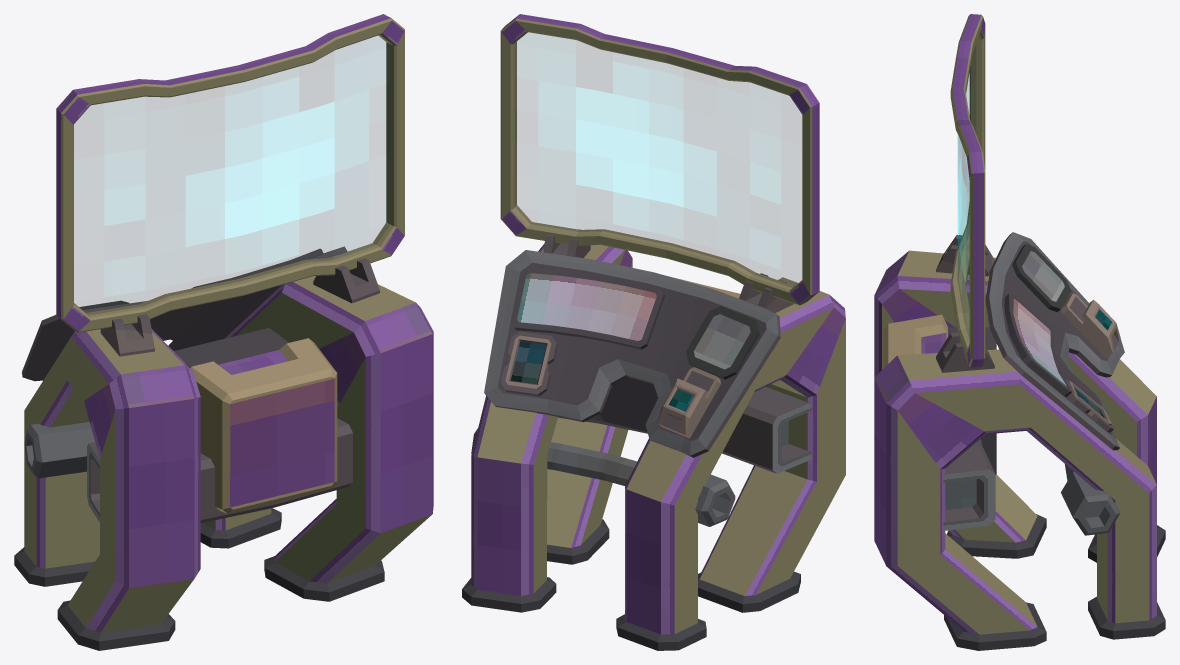
Rendered from entity104576.glb.
3 renders of one model, left to right at view 1: azimuth 30°, elevation 25°; view 2: azimuth 150°, elevation 25°; view 3: azimuth 270°, elevation 25°, orthographic. The views are drawn at different scales.
Visible parts, largest first — view 1: node_SM_Prop_Monitor_03 (2), node_SM_Prop_Monitor_03_Glass_01; view 2: node_SM_Prop_Monitor_03 (2), node_SM_Prop_Monitor_03_Glass_01; view 3: node_SM_Prop_Monitor_03 (2), node_SM_Prop_Monitor_03_Glass_01.
Boxes of the visible parts, x1,y1,x2,y2 form: node_SM_Prop_Monitor_03 (2): (14, 14, 433, 650); node_SM_Prop_Monitor_03_Glass_01: (74, 36, 389, 314); node_SM_Prop_Monitor_03 (2): (462, 14, 845, 650); node_SM_Prop_Monitor_03_Glass_01: (515, 33, 801, 287); node_SM_Prop_Monitor_03 (2): (874, 14, 1165, 650); node_SM_Prop_Monitor_03_Glass_01: (958, 46, 975, 334).
Size of the model in its own units: 1.11 by 1.71 by 0.904.
2 materials, 2 textured.
